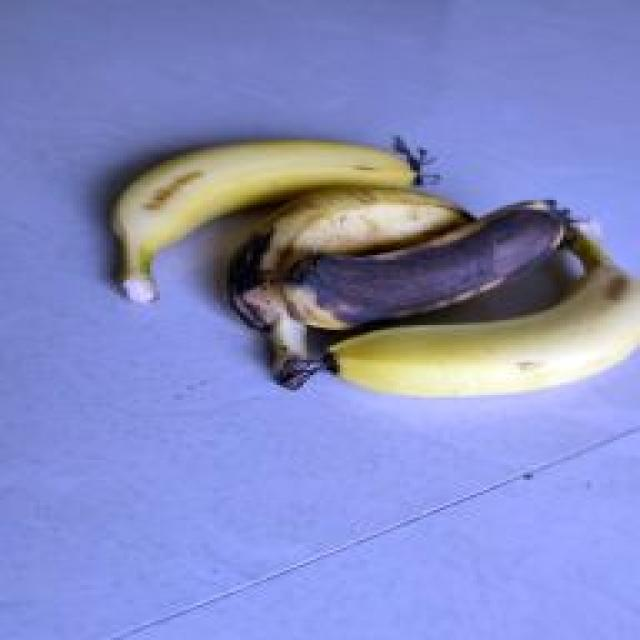Wet: (226, 180, 476, 390), (277, 195, 570, 330)
